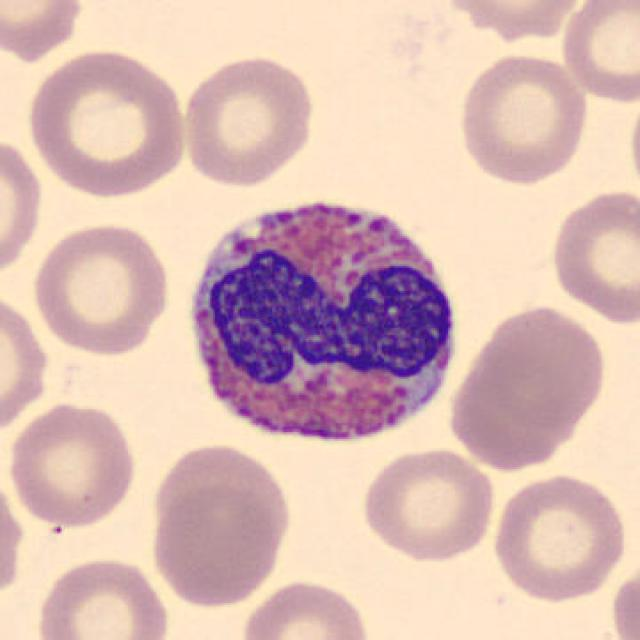Eosinophil: (175, 176, 470, 462)
RBC: (23, 44, 189, 199), (461, 302, 612, 444), (29, 217, 174, 358), (453, 49, 592, 189), (178, 51, 318, 189), (489, 469, 629, 605), (146, 439, 297, 561), (4, 398, 140, 530), (148, 483, 290, 608), (357, 443, 498, 564), (450, 351, 576, 470), (546, 184, 638, 326), (31, 553, 172, 640), (238, 575, 374, 640), (556, 0, 638, 106), (0, 285, 53, 440), (0, 132, 46, 286), (435, 0, 593, 42), (0, 0, 87, 63), (0, 468, 28, 606), (608, 557, 640, 640), (626, 83, 640, 208)
